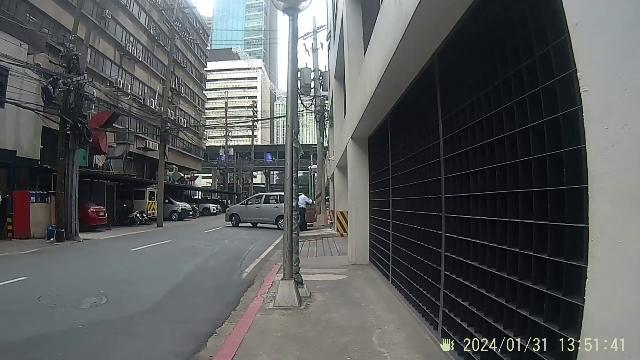lamp_post: (268, 0, 311, 308)
utility_post: (300, 24, 332, 224)
